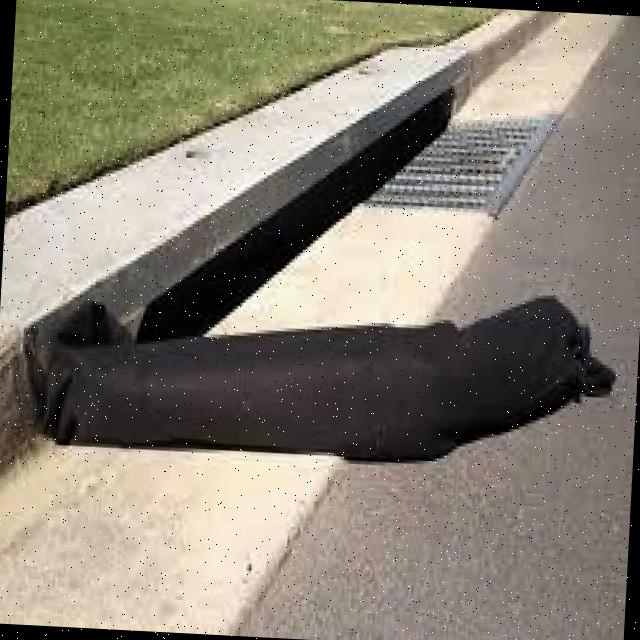curb: (196, 37, 421, 281), (1, 146, 189, 437), (437, 7, 561, 91)
